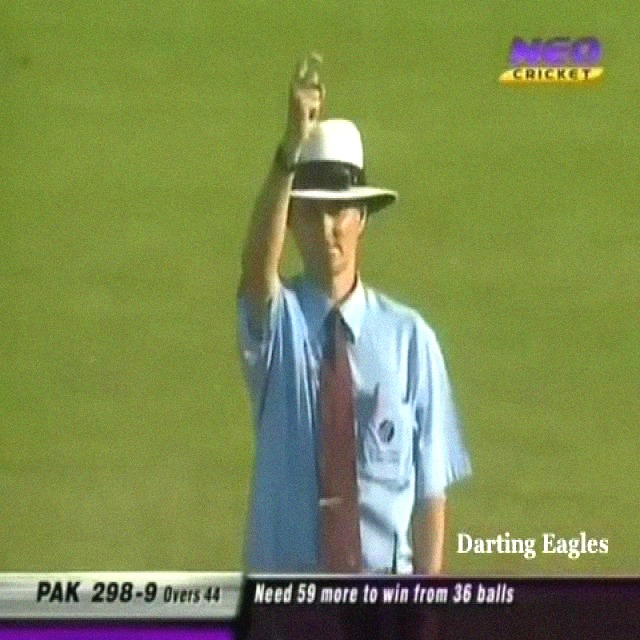Out: (232, 41, 466, 579)
